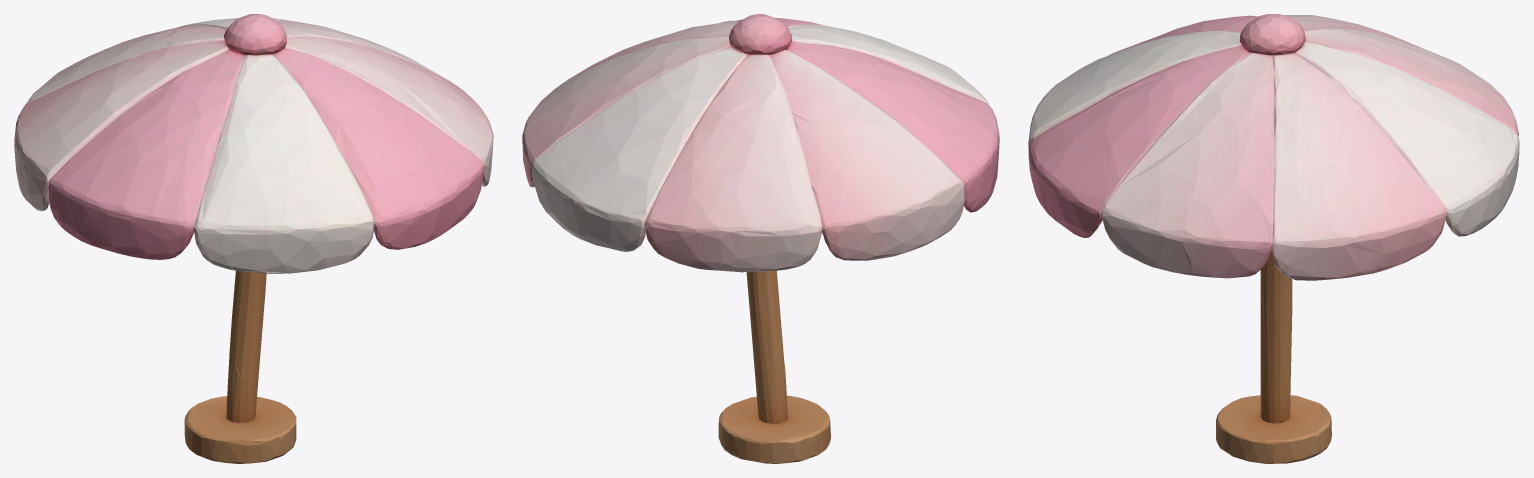
File: umbrella_set.glb
The picture shows the model from 3 angles, left to right: view 1: azimuth 30°, elevation 25°; view 2: azimuth 150°, elevation 25°; view 3: azimuth 270°, elevation 25°; orthographic projection. The views are drawn at different scales.
Parts seen in each view (by area): view 1: geometry_0; view 2: geometry_0; view 3: geometry_0.
Boxes of the visible parts, x1,y1,x2,y2 form: geometry_0: (14, 14, 493, 463); geometry_0: (522, 14, 999, 463); geometry_0: (1028, 14, 1519, 463).
Bounding box in the file's own units: 0.9933 × 0.9627 × 0.9946.
Materials: 1 (1 with a texture image).
